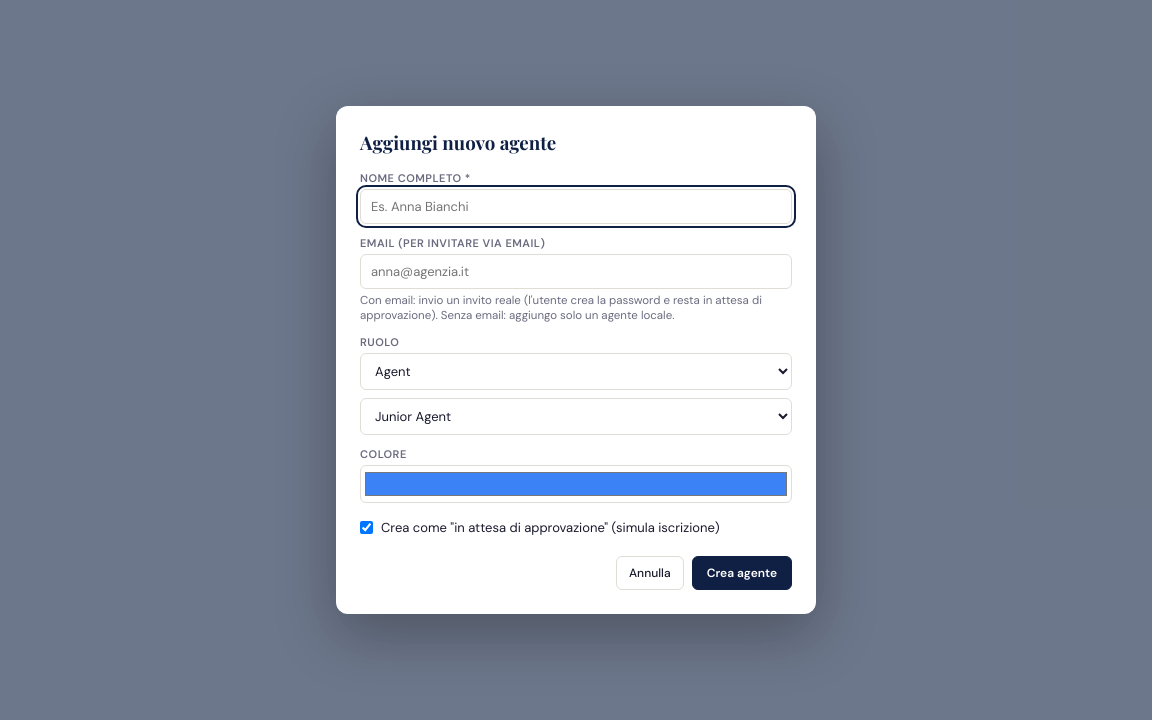
Test: AddTeamMemberModal — nome ed email, ciascuno col proprio messaggio › l'errore si spegne appena si corregge il campo
Click the button "Crea agente": (742, 573) [692,556,792,590]
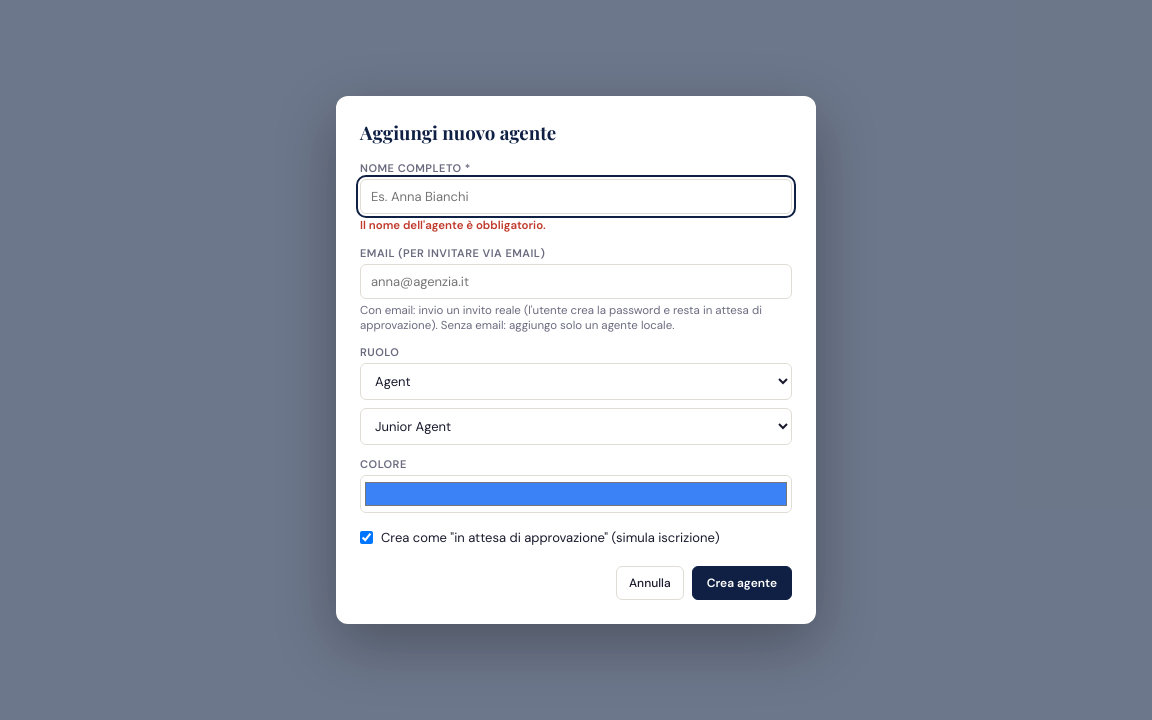
Check: the message "Il nome dell'agente è obbligatorio." is shown, box [360,218,546,233]
In the field with placeholder "Es. Anna Bianchi": (576, 197) [360,179,792,214], type "Anna"
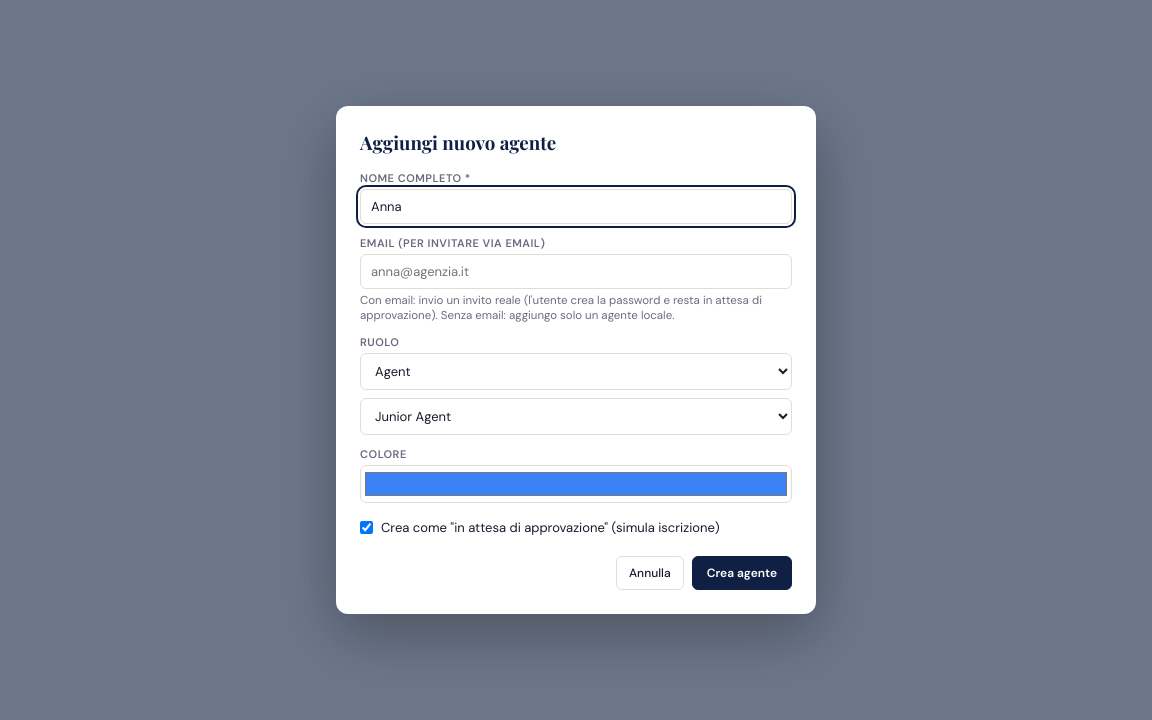
Check: the message "Il nome dell'agente è obbligatorio." is gone
